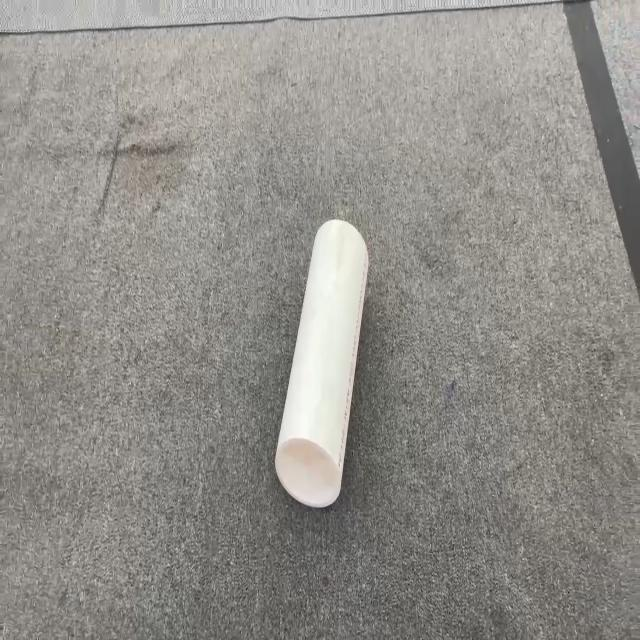coral: (273, 217, 369, 508)
